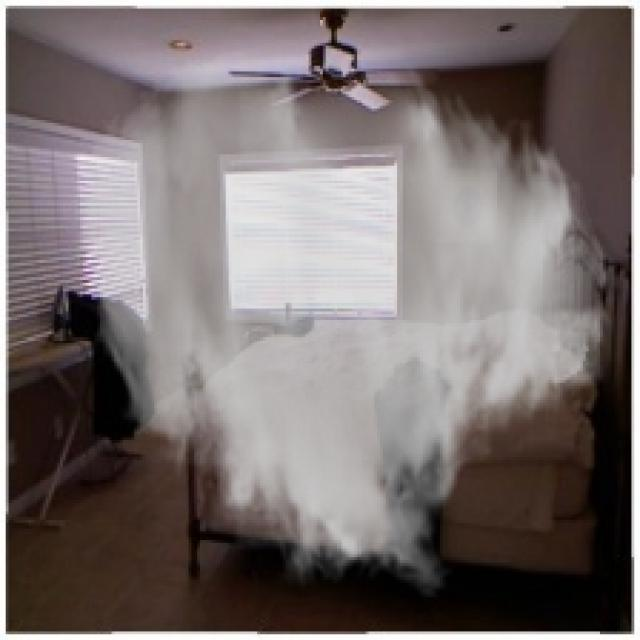Smoke: (68, 45, 614, 600)
